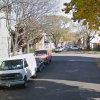Car: (29, 41, 55, 66)
